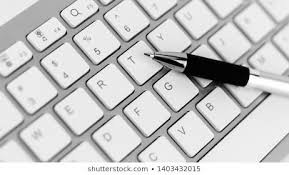pen: (140, 51, 289, 96)
